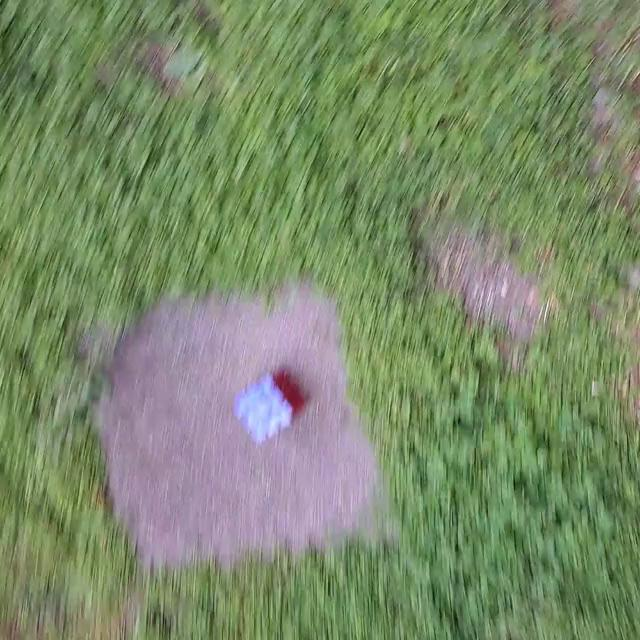rubix_cube: (230, 368, 308, 448)
